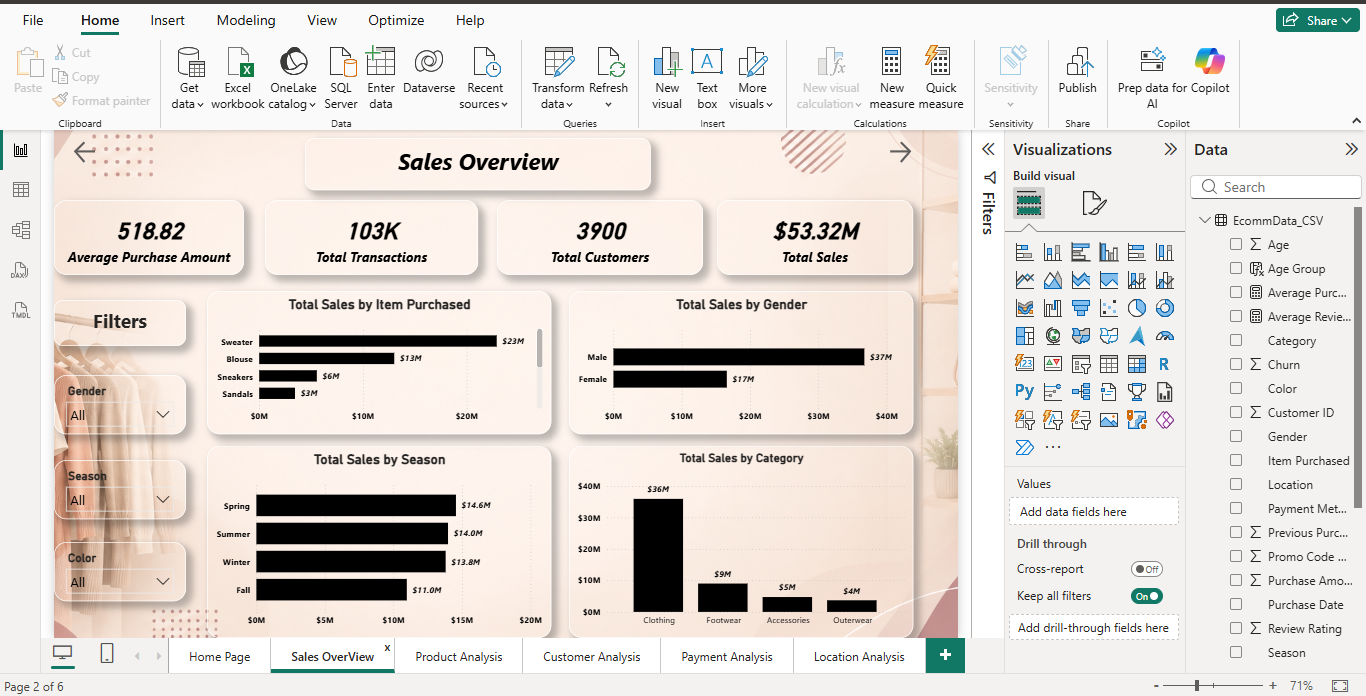

This screenshot's page, from the dashboard's own definition file:
{"tool":"powerbi","page":{"name":"Sales OverView","canvas":[1280,720],"ordinal":1},"visuals":[{"type":"card","fields":{"Values":["EcommData_CSV.Total Sales"]},"box":[939.7,99.2,277.8,106.3],"z":0},{"type":"textbox","box":[355.7,11.3,490.4,73.7],"z":1000},{"type":"card","fields":{"Values":["EcommData_CSV.Total Customers"]},"box":[627.9,99.2,292,106.3],"z":2000},{"type":"card","fields":{"Values":["EcommData_CSV.Total Transactions"]},"box":[299.1,99.2,301.9,106.3],"z":3000},{"type":"card","fields":{"Values":["EcommData_CSV.Average Purchase Amount"]},"box":[0,99.2,269.3,106.3],"z":4000},{"type":"clusteredColumnChart","title":"Total Sales by Category","fields":{"Category":["EcommData_CSV.Category"],"Y":["EcommData_CSV.Total Sales"]},"box":[729.9,447.9,487.6,272.1],"z":5000},{"type":"clusteredBarChart","title":"Total Sales by Gender","fields":{"Y":["EcommData_CSV.Total Sales"],"Category":["EcommData_CSV.Gender"]},"box":[729.9,228.2,487.6,202.7],"z":6000},{"type":"clusteredBarChart","title":"Total Sales by Season","fields":{"Y":["EcommData_CSV.Total Sales"],"Category":["EcommData_CSV.Season"]},"box":[216.9,447.9,487.6,272.1],"z":7000},{"type":"clusteredBarChart","title":"Total Sales by Item Purchased","fields":{"Y":["EcommData_CSV.Total Sales"],"Category":["EcommData_CSV.Item Purchased"]},"box":[216.9,228.2,487.6,202.7],"z":8000},{"type":"slicer","title":"Total Sales by Item Purchased","fields":{"Values":["EcommData_CSV.Season"]},"box":[0,467.7,187.1,83.6],"z":9000},{"type":"slicer","title":"Total Sales by Item Purchased","fields":{"Values":["EcommData_CSV.Gender"]},"box":[0,347.2,187.1,83.6],"z":10000},{"type":"slicer","title":"Total Sales by Item Purchased","fields":{"Values":["EcommData_CSV.Color"]},"box":[0,583.9,187.1,83.6],"z":11000},{"type":"textbox","box":[0,240.9,187.1,65.2],"z":12000},{"type":"actionButton","box":[24.1,11.3,100,40],"z":13000},{"type":"actionButton","box":[1179.2,11.3,100,40],"z":14000}]}

Visuals, with their boxes on the page's 1280x720 design canvas (x1, y1, x2, y2). These are canvas units, not pixel positions in the 1366x696 screenshot, which may show the page scaled, cropped or inside an application window:
card - EcommData_CSV.Total Sales: {"left": 940, "top": 99, "right": 1218, "bottom": 206}
textbox: {"left": 356, "top": 11, "right": 846, "bottom": 85}
card - EcommData_CSV.Total Customers: {"left": 628, "top": 99, "right": 920, "bottom": 206}
card - EcommData_CSV.Total Transactions: {"left": 299, "top": 99, "right": 601, "bottom": 206}
card - EcommData_CSV.Average Purchase Amount: {"left": 0, "top": 99, "right": 269, "bottom": 206}
"Total Sales by Category" clusteredColumnChart: {"left": 730, "top": 448, "right": 1218, "bottom": 720}
"Total Sales by Gender" clusteredBarChart: {"left": 730, "top": 228, "right": 1218, "bottom": 431}
"Total Sales by Season" clusteredBarChart: {"left": 217, "top": 448, "right": 704, "bottom": 720}
"Total Sales by Item Purchased" clusteredBarChart: {"left": 217, "top": 228, "right": 704, "bottom": 431}
"Total Sales by Item Purchased" slicer: {"left": 0, "top": 468, "right": 187, "bottom": 551}
"Total Sales by Item Purchased" slicer: {"left": 0, "top": 347, "right": 187, "bottom": 431}
"Total Sales by Item Purchased" slicer: {"left": 0, "top": 584, "right": 187, "bottom": 668}
textbox: {"left": 0, "top": 241, "right": 187, "bottom": 306}
actionButton: {"left": 24, "top": 11, "right": 124, "bottom": 51}
actionButton: {"left": 1179, "top": 11, "right": 1279, "bottom": 51}
